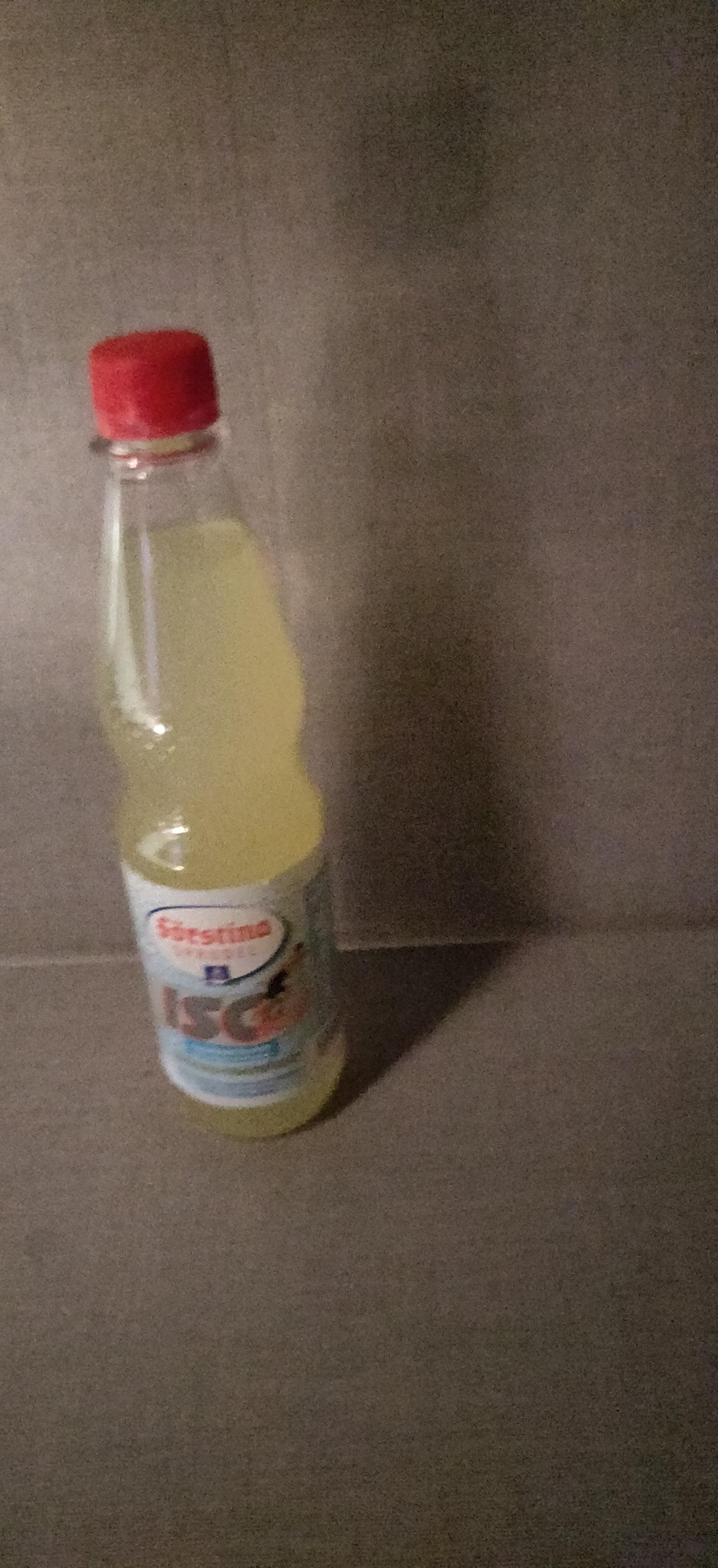bottle-plastic: (80, 326, 343, 1141)
